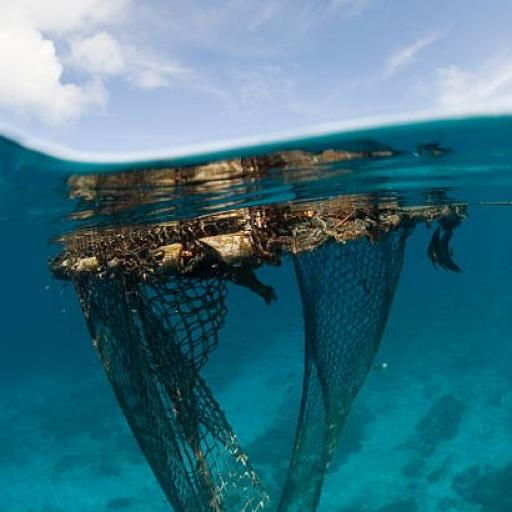net: (45, 200, 472, 510)
